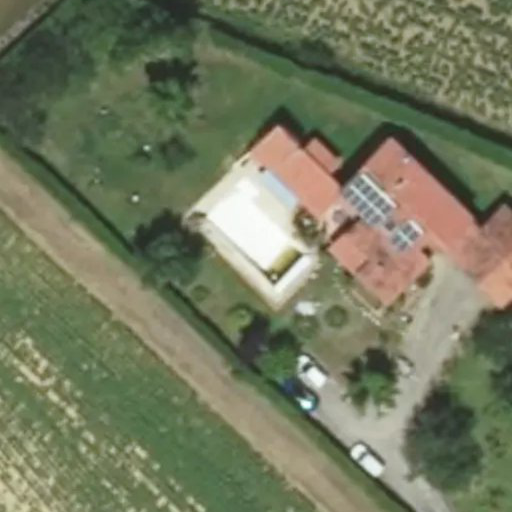pool: (203, 221, 305, 255)
